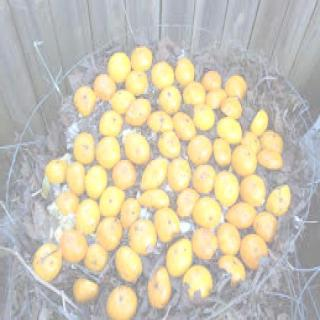orange: (107, 47, 133, 87)
